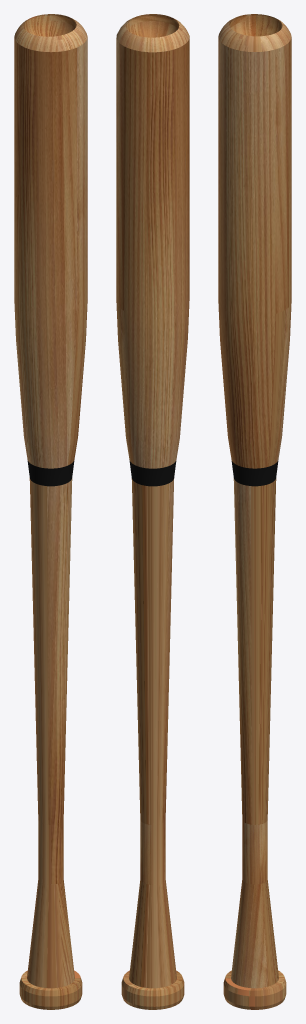
File: BatText.fbx
3 views of the same model, side by side, from view 1: azimuth 90°, elevation 25°; view 2: azimuth 150°, elevation 25°; view 3: azimuth 270°, elevation 25° (orthographic).
Visible parts, largest first — view 1: Cylinder; view 2: Cylinder; view 3: Cylinder.
Part boxes in pixels (x1,y1,x2,y2): Cylinder: (14, 14, 87, 1009); Cylinder: (116, 14, 189, 1009); Cylinder: (218, 14, 291, 1009).
Size of the model in its own units: 30 by 440 by 30.
Materials: 3 (1 with a texture image).
